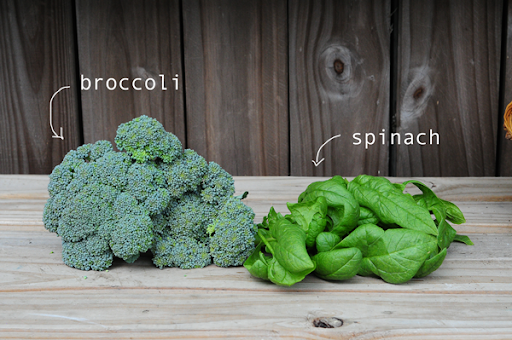Broccoli: (35, 138, 128, 271), (143, 174, 217, 245), (99, 115, 185, 175), (97, 192, 159, 265), (197, 197, 256, 267), (151, 150, 219, 198), (106, 162, 163, 201), (153, 232, 214, 267), (196, 156, 231, 216)
Spinach: (257, 167, 459, 294)
